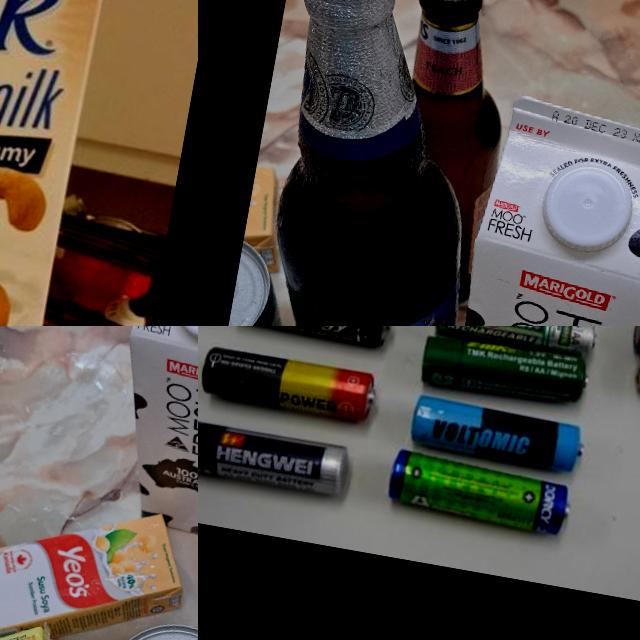aba de lata: (223, 294, 238, 326)
bateria: (384, 446, 576, 544), (408, 392, 589, 476), (198, 342, 382, 424), (420, 331, 595, 412), (198, 415, 354, 500), (433, 326, 601, 360), (226, 326, 398, 353)
caixinha: (433, 88, 640, 326), (0, 0, 121, 326), (0, 479, 193, 640), (97, 326, 198, 542)
garrafa de vidro: (219, 0, 524, 326), (363, 0, 532, 307)
lata: (205, 237, 321, 326)
tampa plástica: (538, 156, 636, 258)
